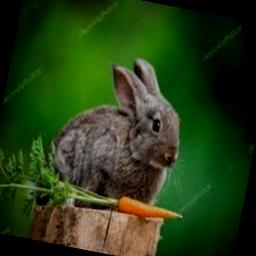rabbit: (46, 58, 180, 204)
